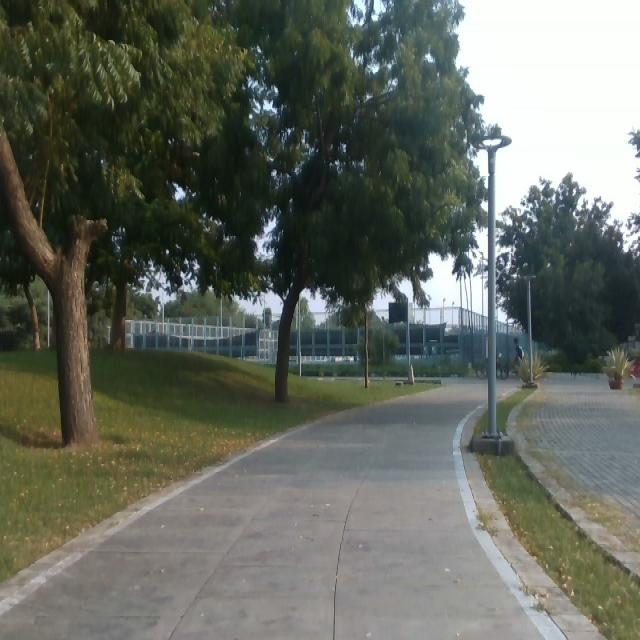lane: (0, 386, 544, 640)
